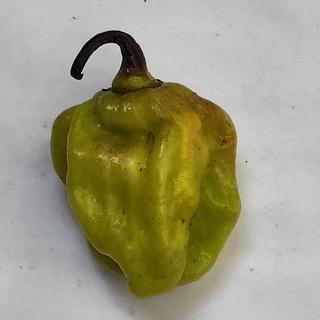Defect: (138, 122, 162, 159)
